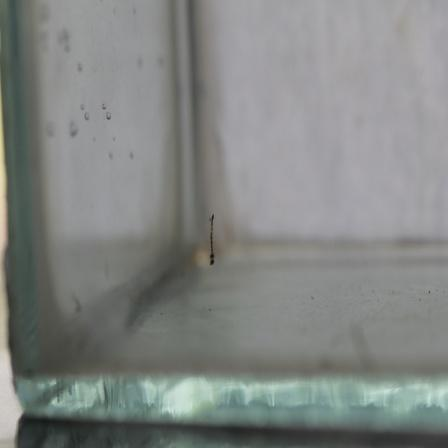Jentik-Nyamuk: (205, 211, 220, 272)
